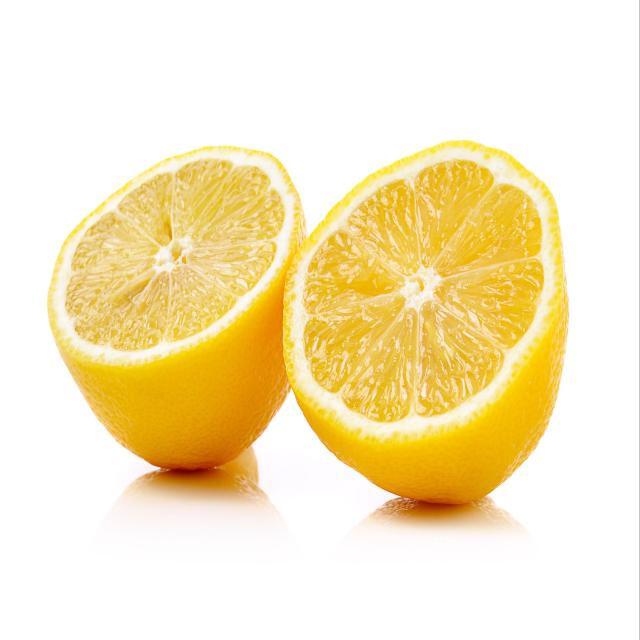lemon: (280, 134, 573, 513)
